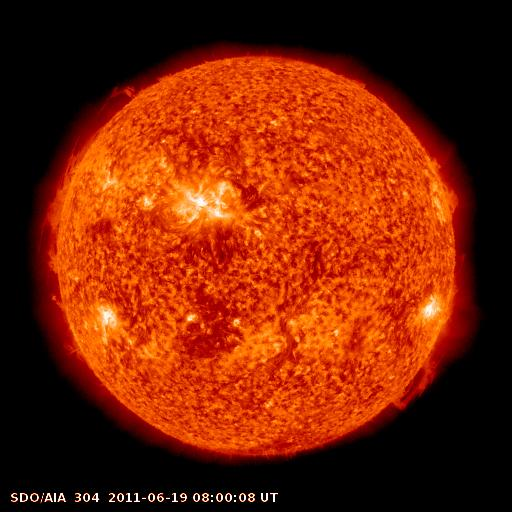prominence: (36, 122, 109, 276), (383, 346, 442, 417), (90, 79, 143, 121), (429, 152, 463, 215), (42, 289, 74, 316)
